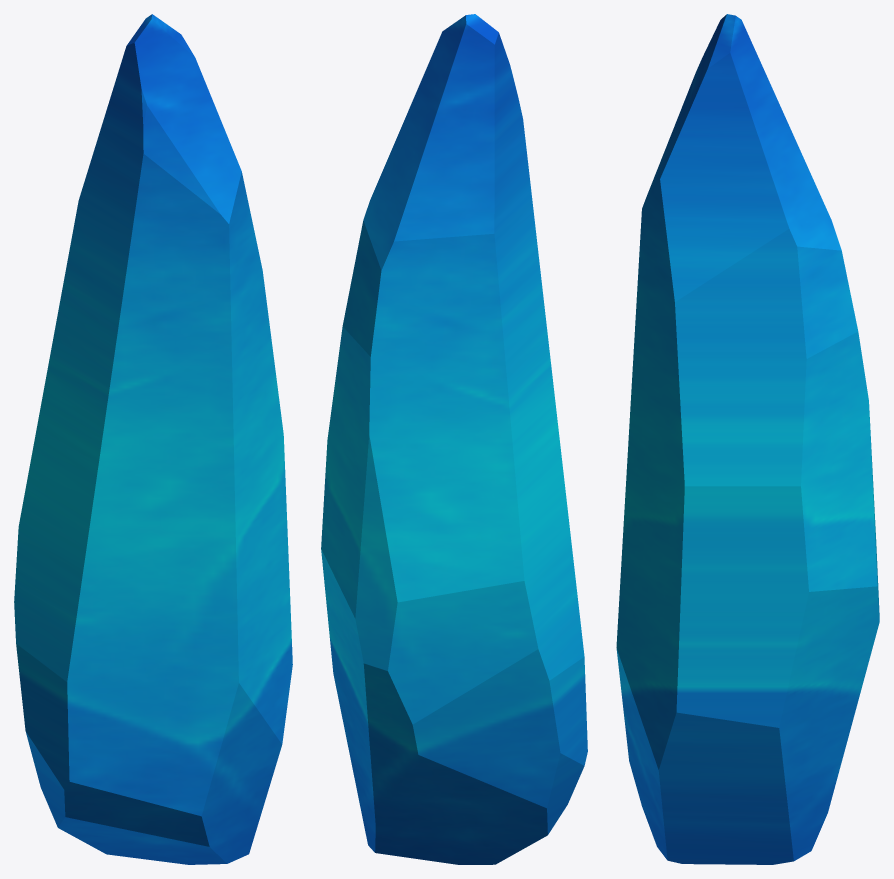
The model's file is Crystal12.obj.
3 views of the same model, side by side, from view 1: azimuth 30°, elevation 25°; view 2: azimuth 150°, elevation 25°; view 3: azimuth 270°, elevation 25° (orthographic).
Visible parts, largest first — view 1: obj1; view 2: obj1; view 3: obj1.
Part boxes in pixels (bbox=[...]): obj1: bbox=[14, 14, 292, 864]; obj1: bbox=[321, 14, 587, 864]; obj1: bbox=[616, 14, 879, 864].
Bounding box in the file's own units: 4.05 × 14.66 × 4.23.
Materials: 1 (1 with a texture image).
